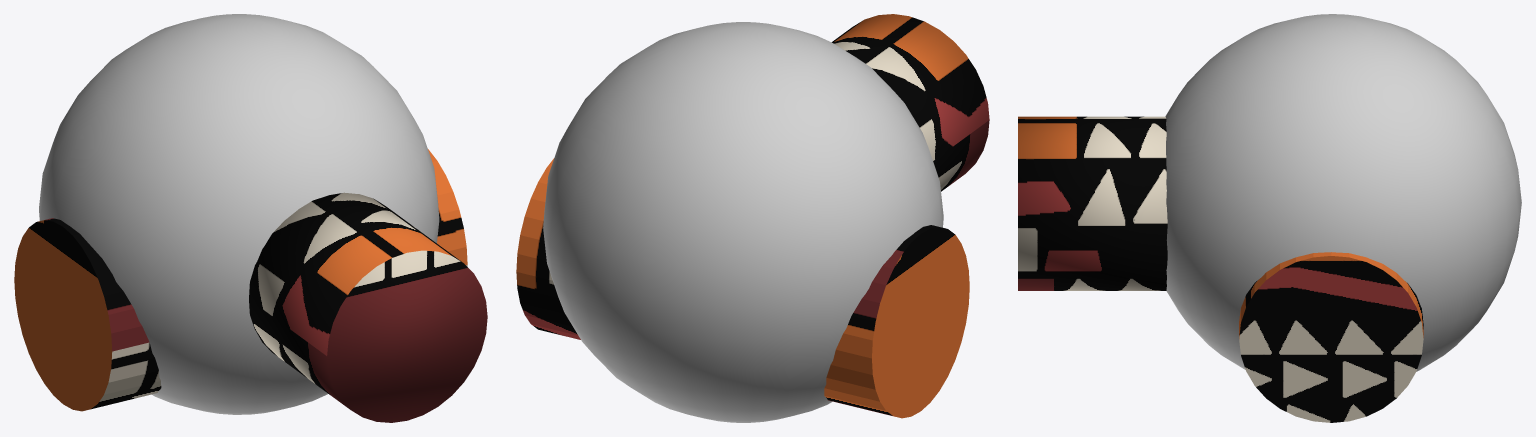
Rendered from enemy.obj.
3 renders of one model, left to right at view 1: azimuth 30°, elevation 25°; view 2: azimuth 150°, elevation 25°; view 3: azimuth 270°, elevation 25°, orthographic. The views are drawn at different scales.
Visible parts, largest first — view 1: 球, 円柱, 円柱.001; view 2: 球, 円柱.001, 円柱; view 3: 球, 円柱, 円柱.001.
Boxes of the visible parts, box(x1,y1,x2,y2) form: 球: box(39, 14, 439, 414); 円柱: box(249, 192, 487, 422); 円柱.001: box(14, 149, 467, 411); 球: box(543, 22, 943, 422); 円柱.001: box(516, 158, 969, 418); 円柱: box(832, 14, 989, 191); 球: box(1165, 14, 1521, 371); 円柱: box(1018, 116, 1167, 290); 円柱.001: box(1239, 252, 1423, 422).
Bounding box in the file's own units: 1.3 × 1.27 × 1.69.
